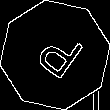P_SW: (25, 24, 85, 86)
